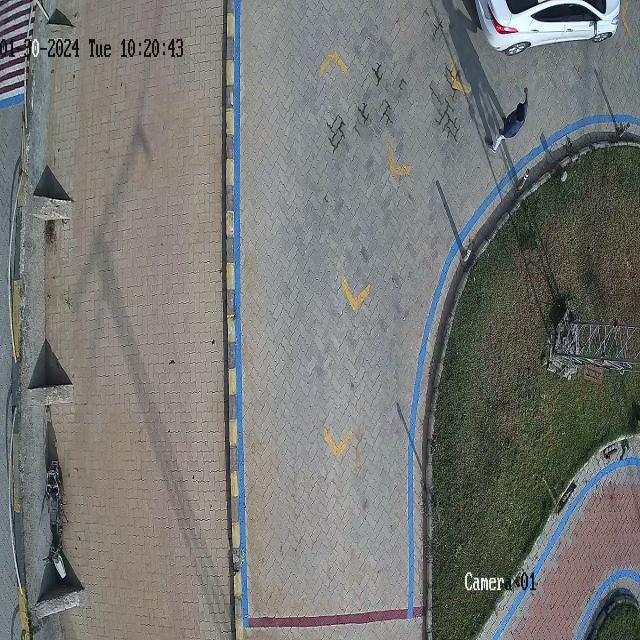car: (474, 0, 622, 53)
